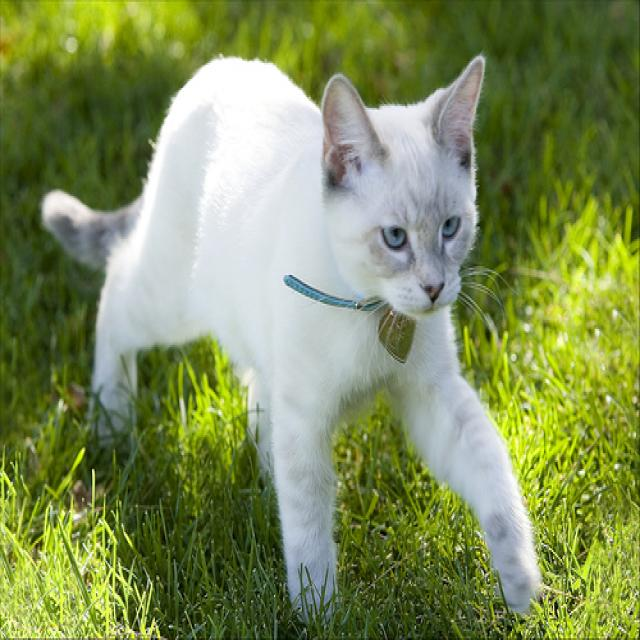cat: (41, 52, 545, 629)
